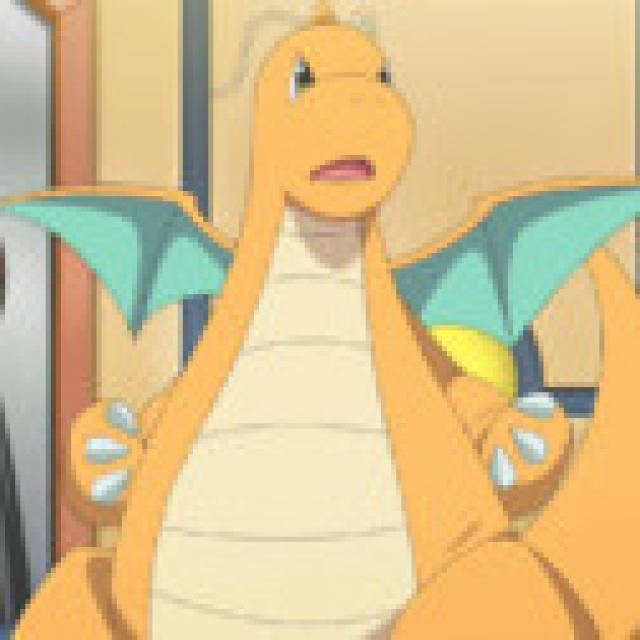Dragonite: (28, 21, 599, 640)
